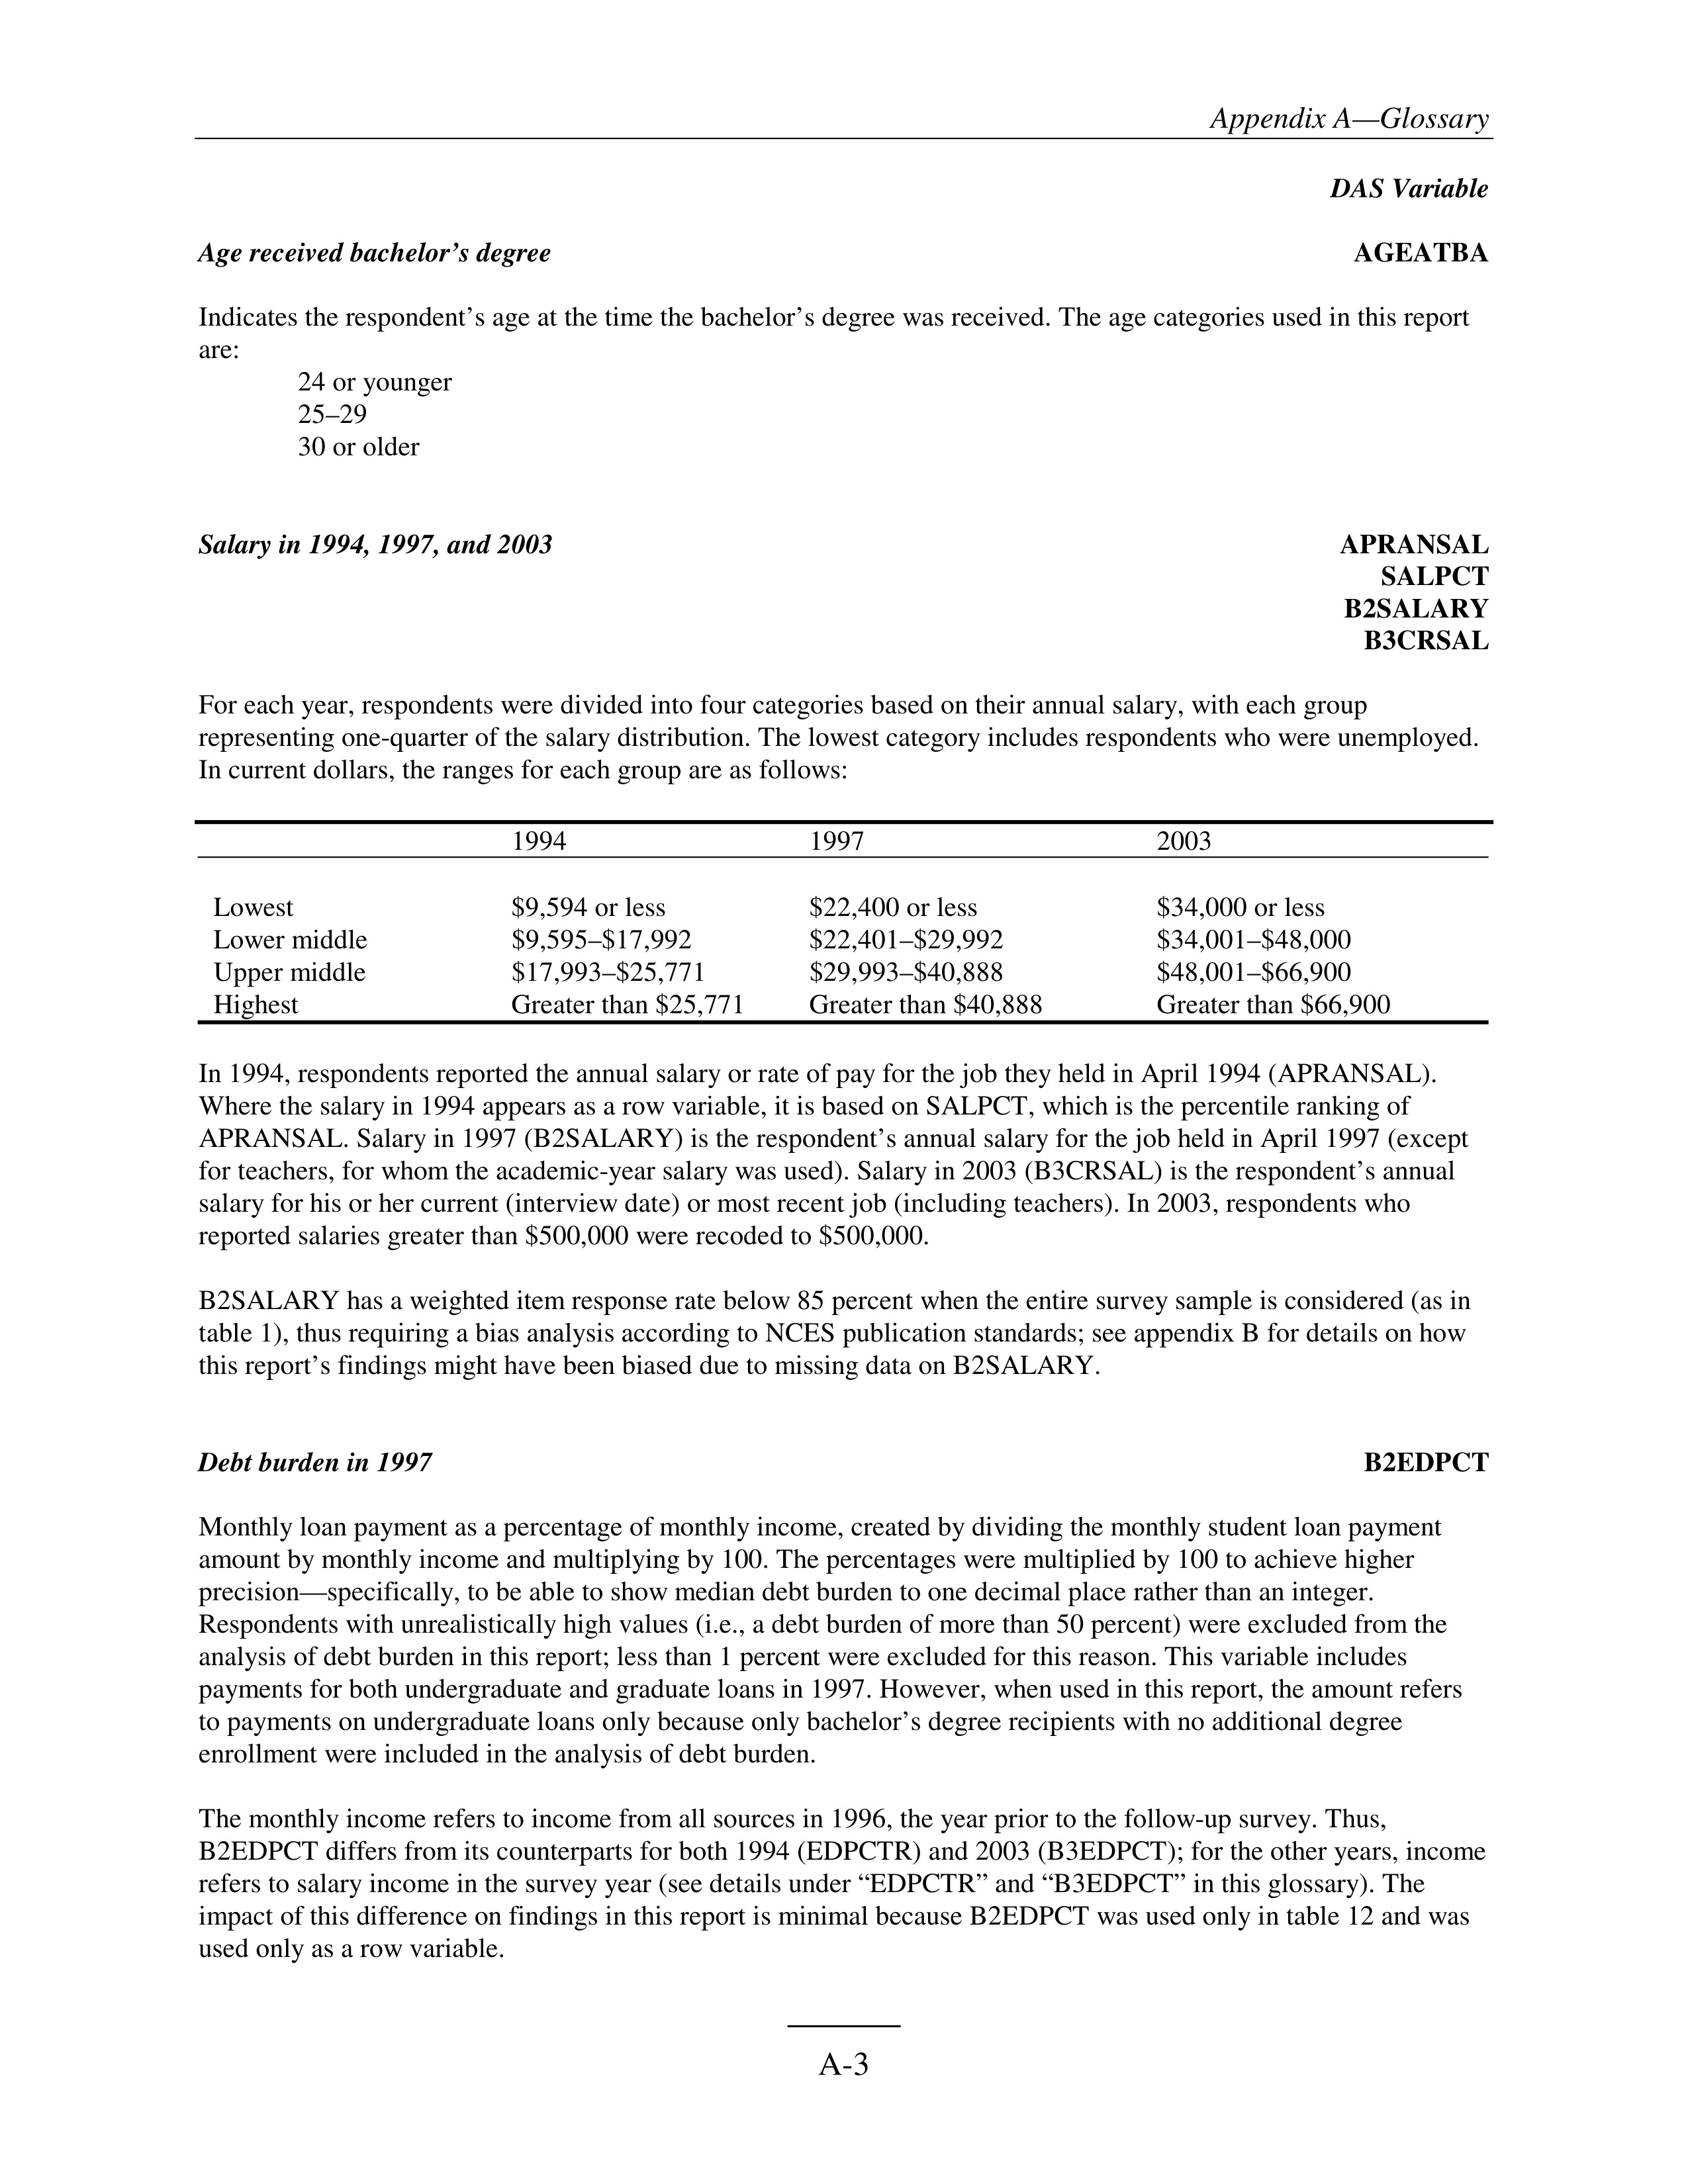table: (213, 828, 1390, 1019)
